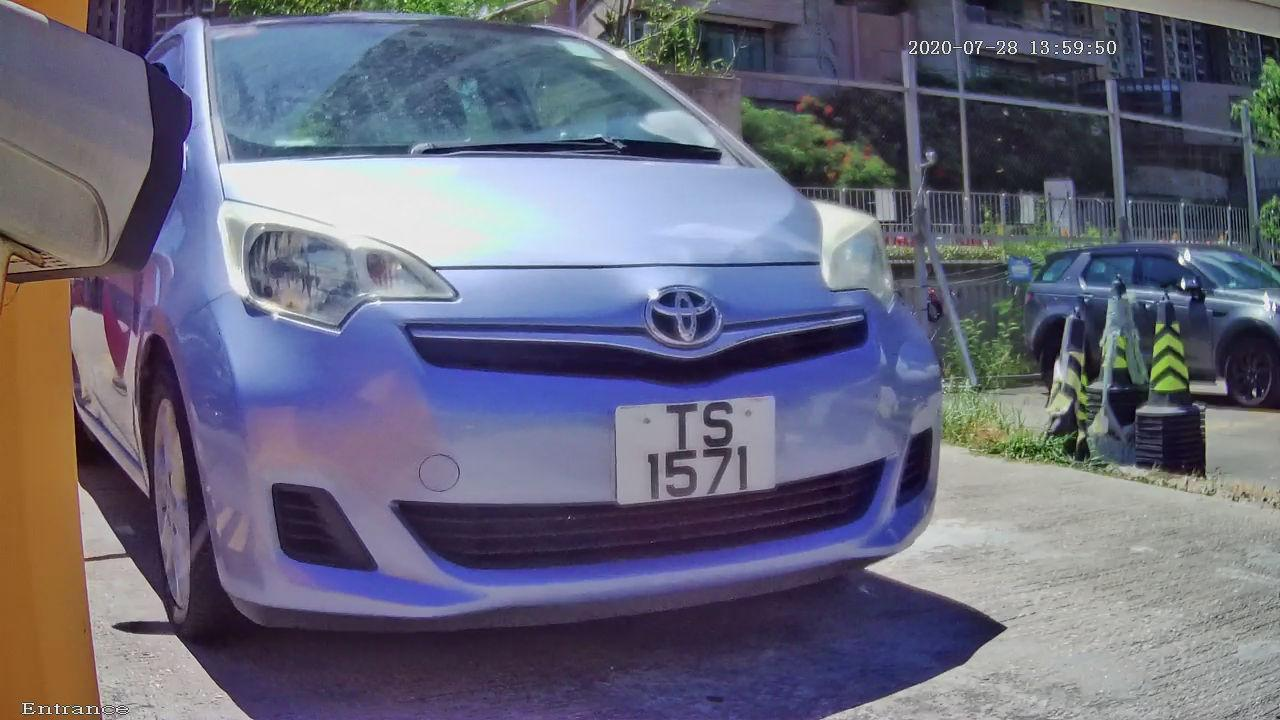privatecar: (18, 23, 1109, 695)
